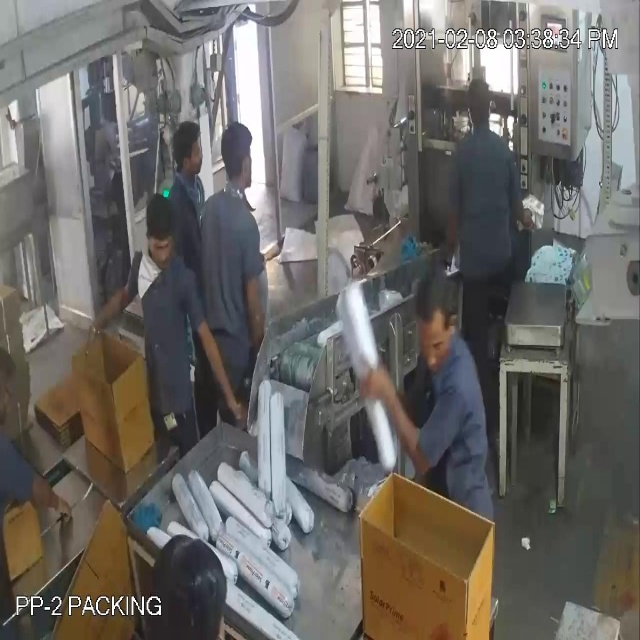Sin_guantes: (355, 349, 443, 487), (183, 312, 252, 437), (8, 458, 78, 540), (85, 266, 140, 355)
